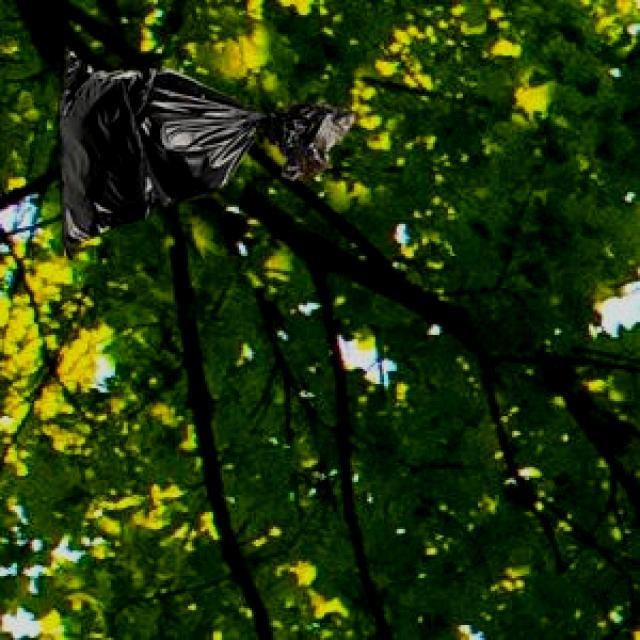Trashbag: (49, 36, 361, 277)
